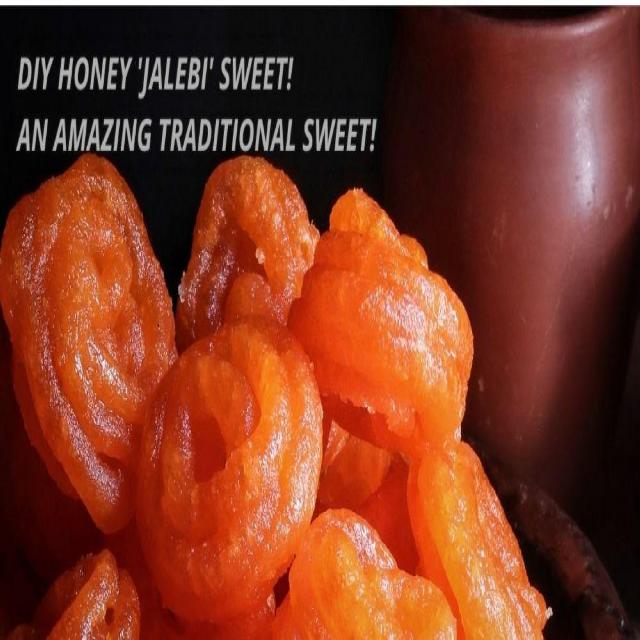jalebi: (7, 130, 536, 640)
